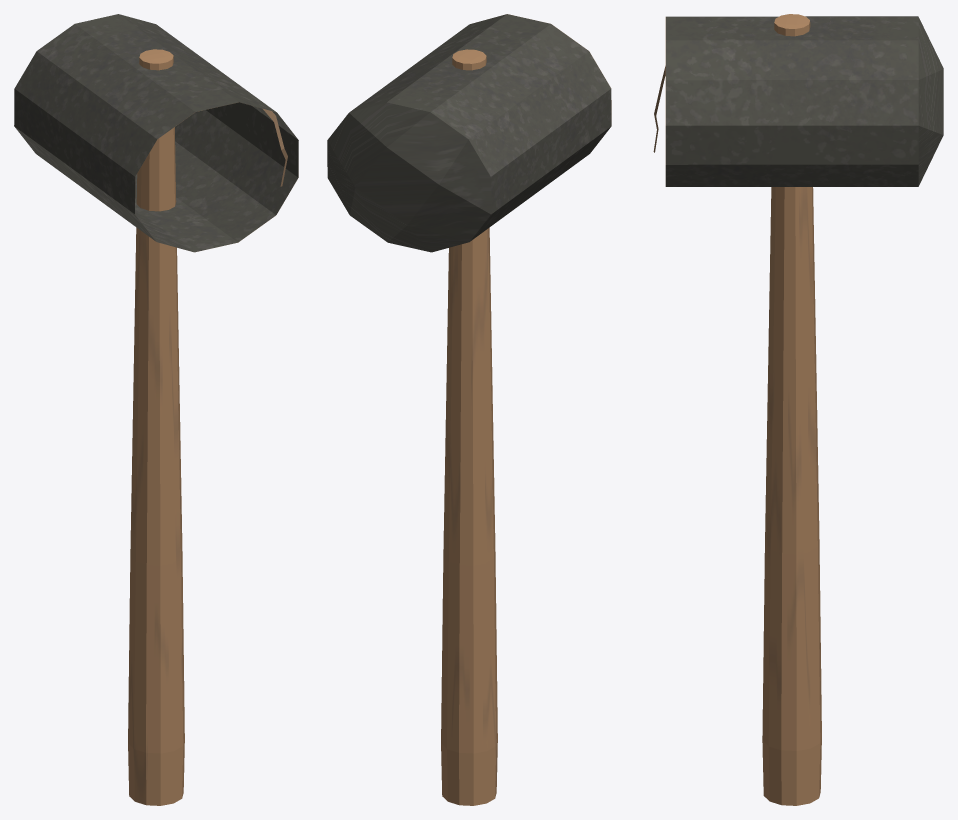
Rendered from mazo.fbx.
3 views of the same model, side by side, from view 1: azimuth 30°, elevation 25°; view 2: azimuth 150°, elevation 25°; view 3: azimuth 270°, elevation 25° (orthographic). The views are drawn at different scales.
Parts seen in each view (by area): view 1: maza; view 2: maza; view 3: maza.
Part boxes in pixels (box(x1,y1,x2,y2)): maza: box(14, 14, 298, 805); maza: box(327, 14, 611, 805); maza: box(653, 14, 943, 805).
Bounding box in the file's own units: 11.87 × 51.2 × 18.17.
